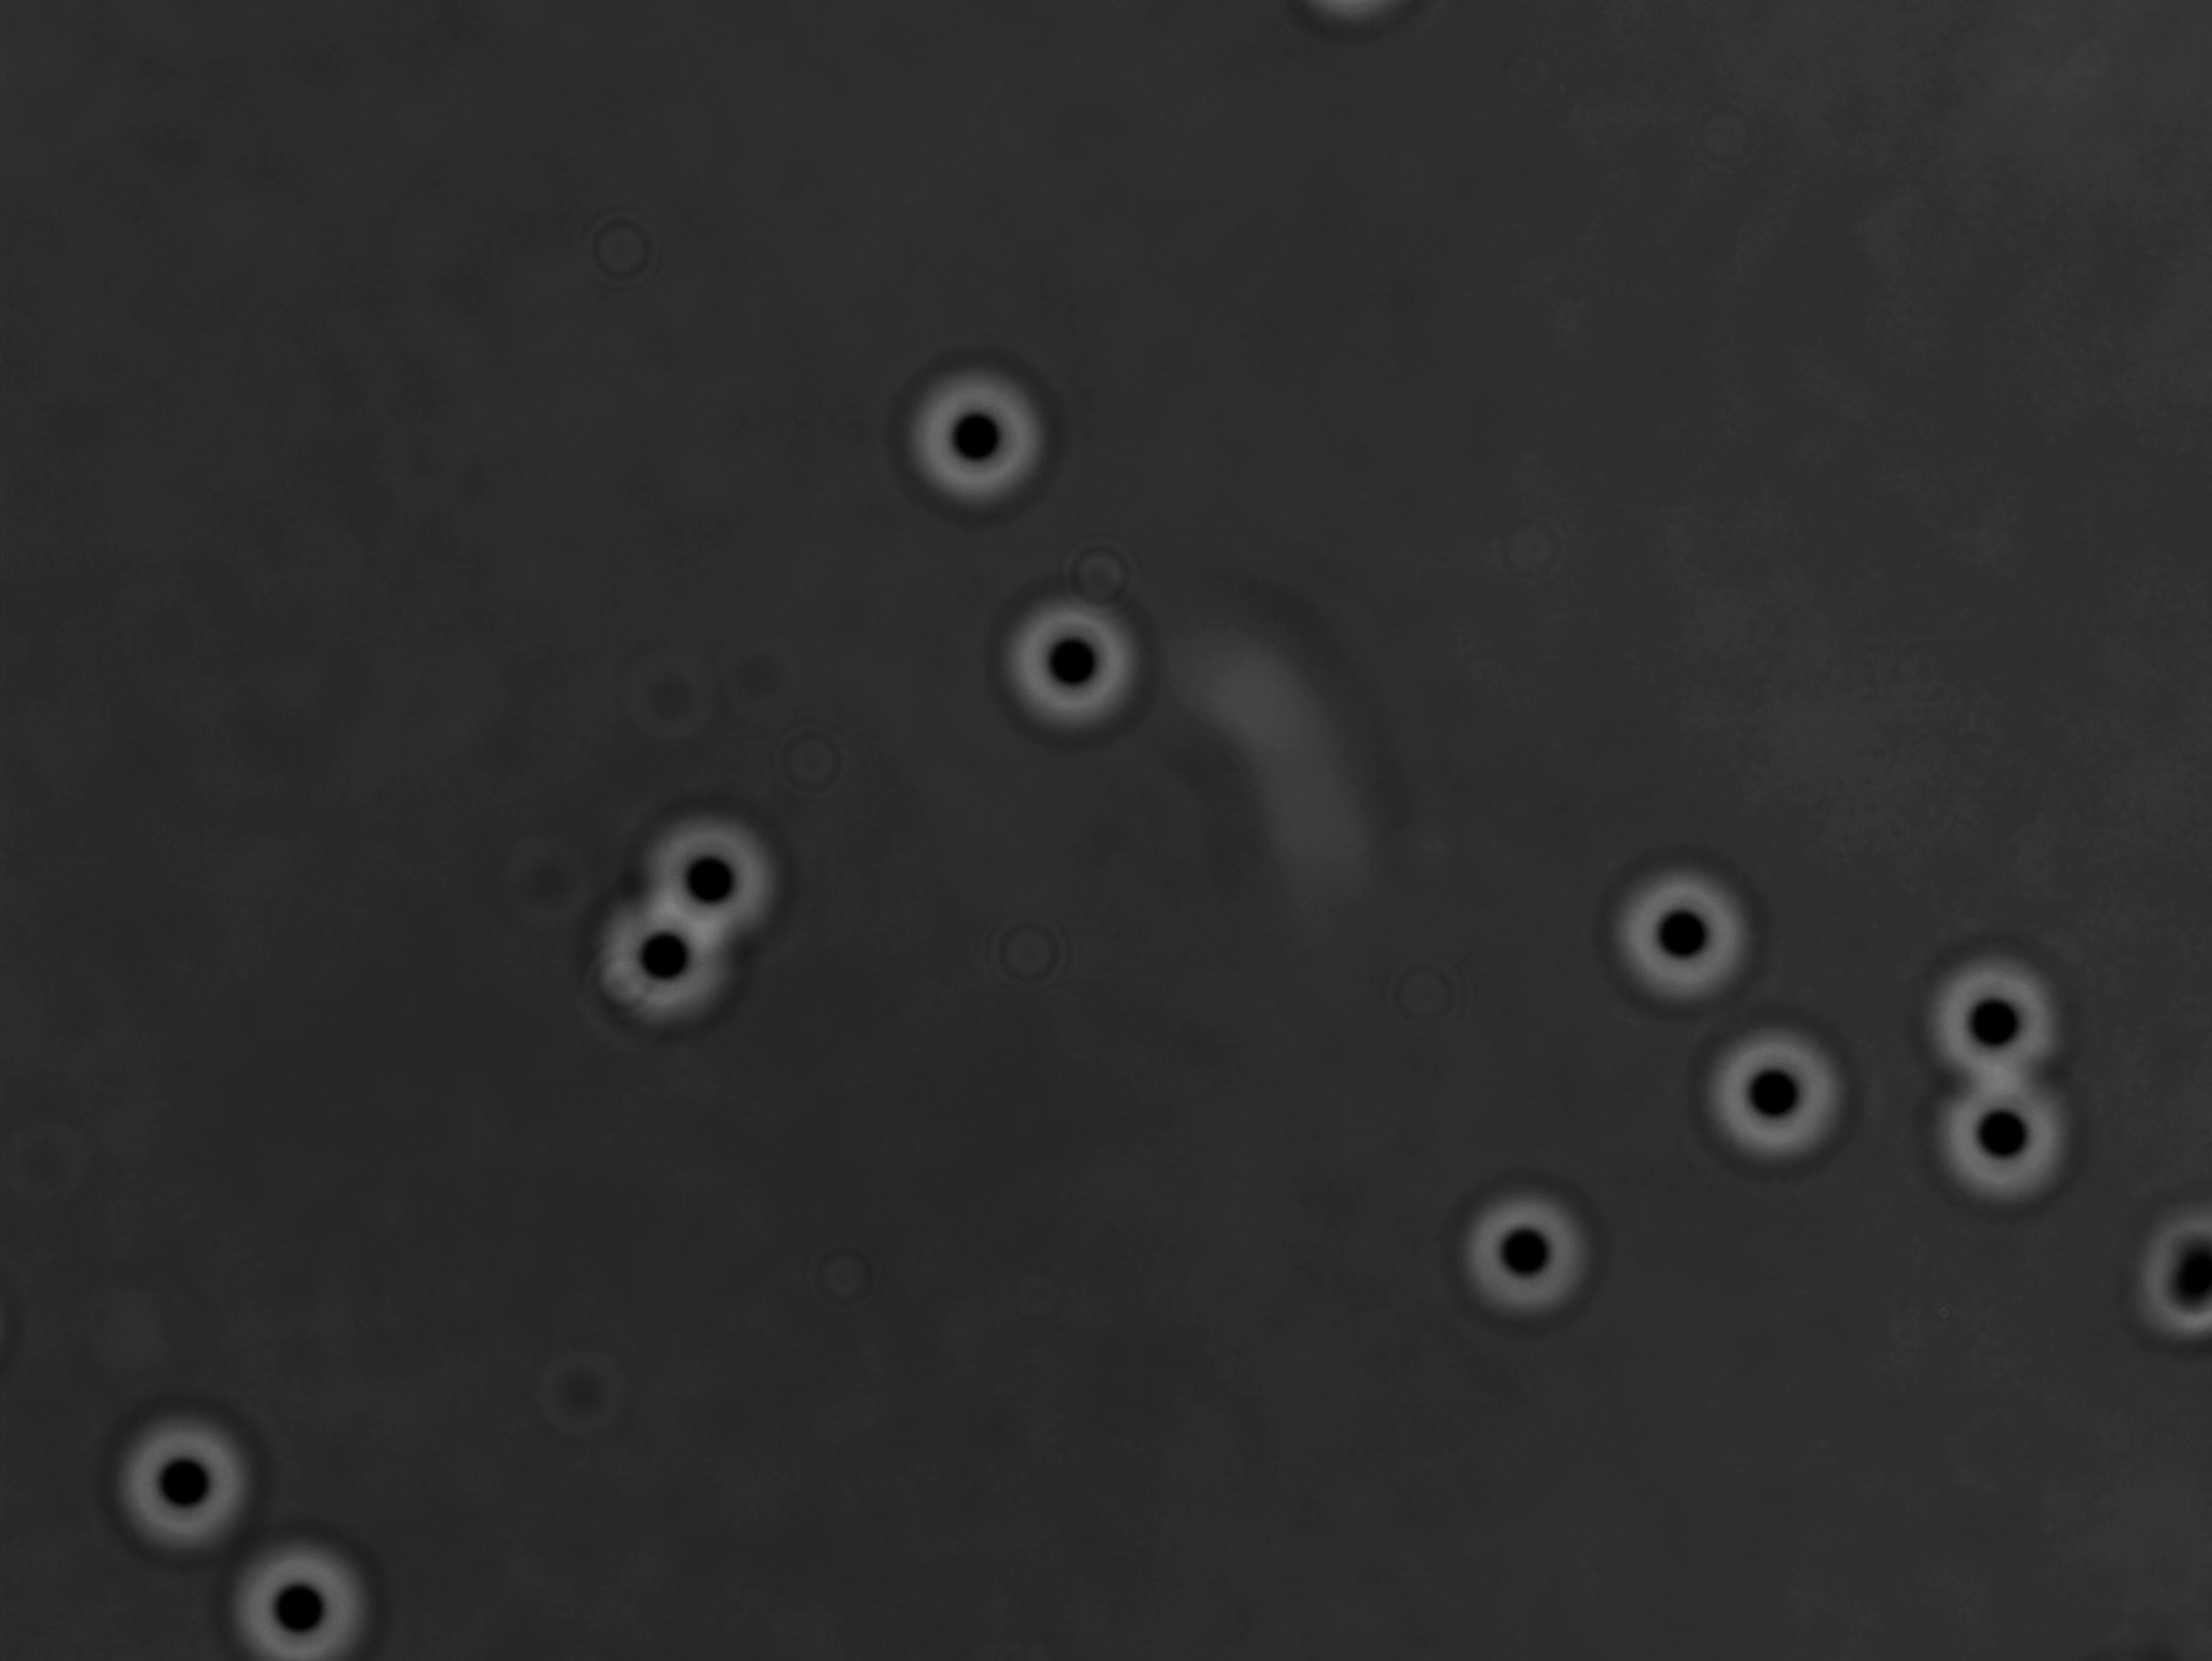depth:-40: (1596, 850, 1767, 1014), (1690, 1015, 1854, 1186), (1451, 1171, 1601, 1333), (1915, 947, 2074, 1096), (1929, 1073, 2086, 1220), (998, 588, 1144, 733), (595, 893, 743, 1036), (106, 1415, 255, 1556), (898, 370, 1041, 515), (223, 1535, 379, 1661), (635, 801, 775, 937)
